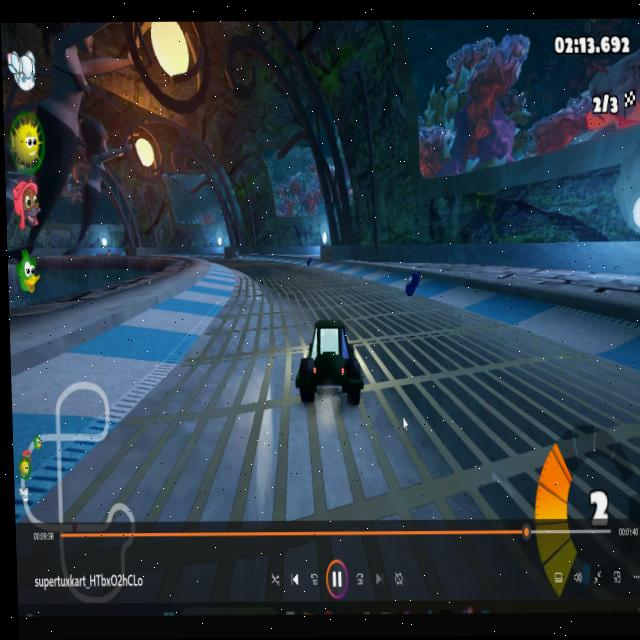nitro: (404, 272, 421, 300), (304, 259, 318, 270)
player_kart: (290, 304, 365, 405)
